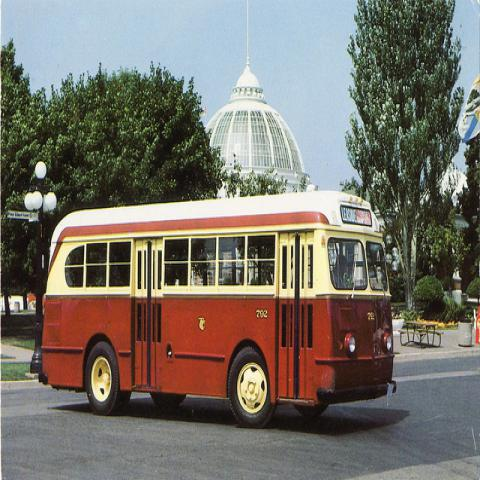bus: (39, 188, 398, 433)
